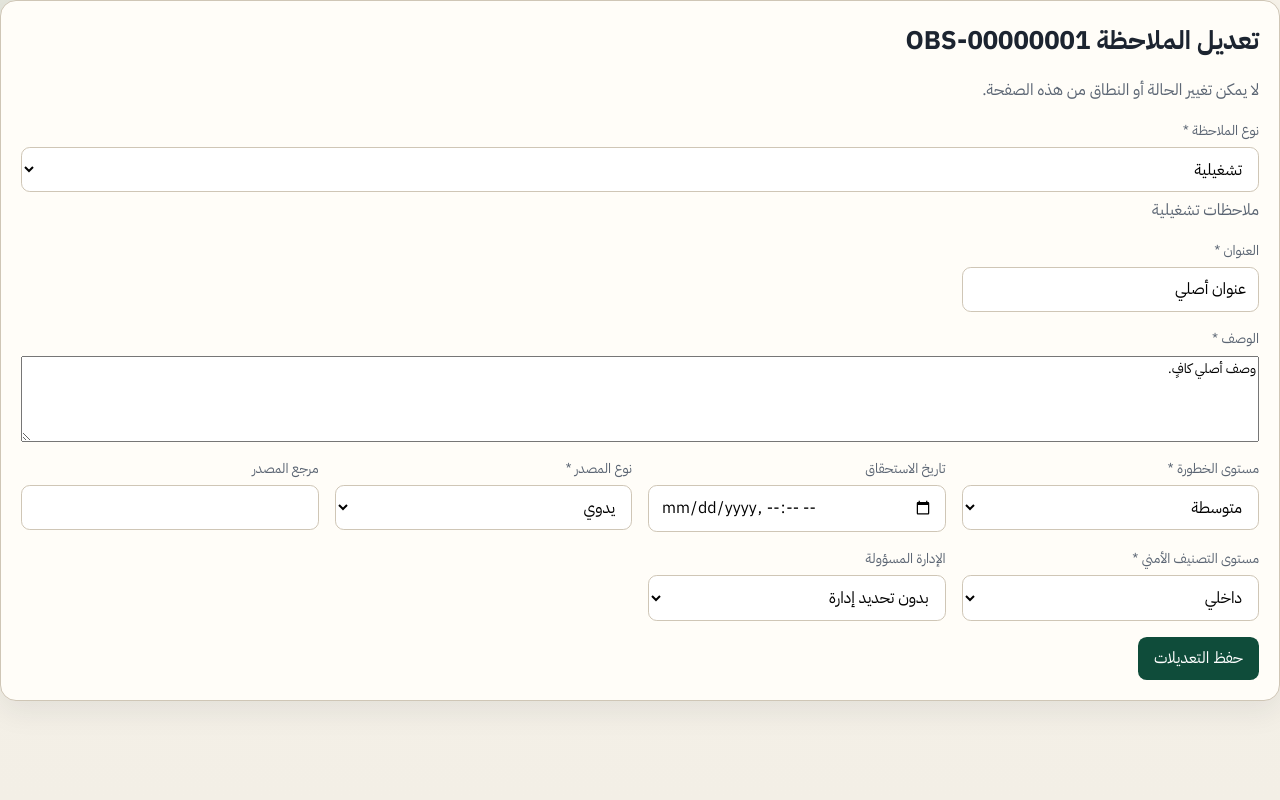
Test: NoteEditPage › shows validation errors for an empty title/description
The image size is (1280, 800).
Clear the field labelled "العنوان" at (1110, 290), box [962,267,1259,312]
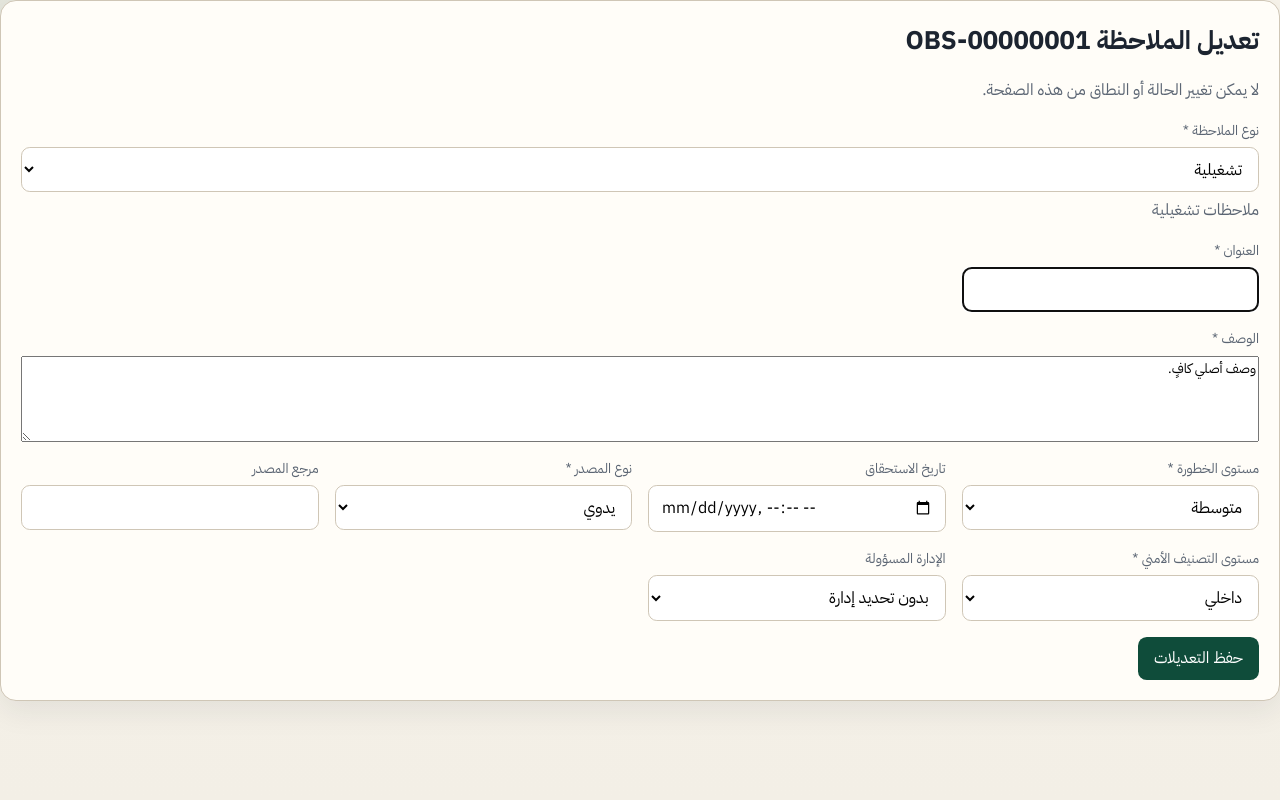
Click the button "حفظ التعديلات" at (1198, 659), box [1138,637,1259,680]
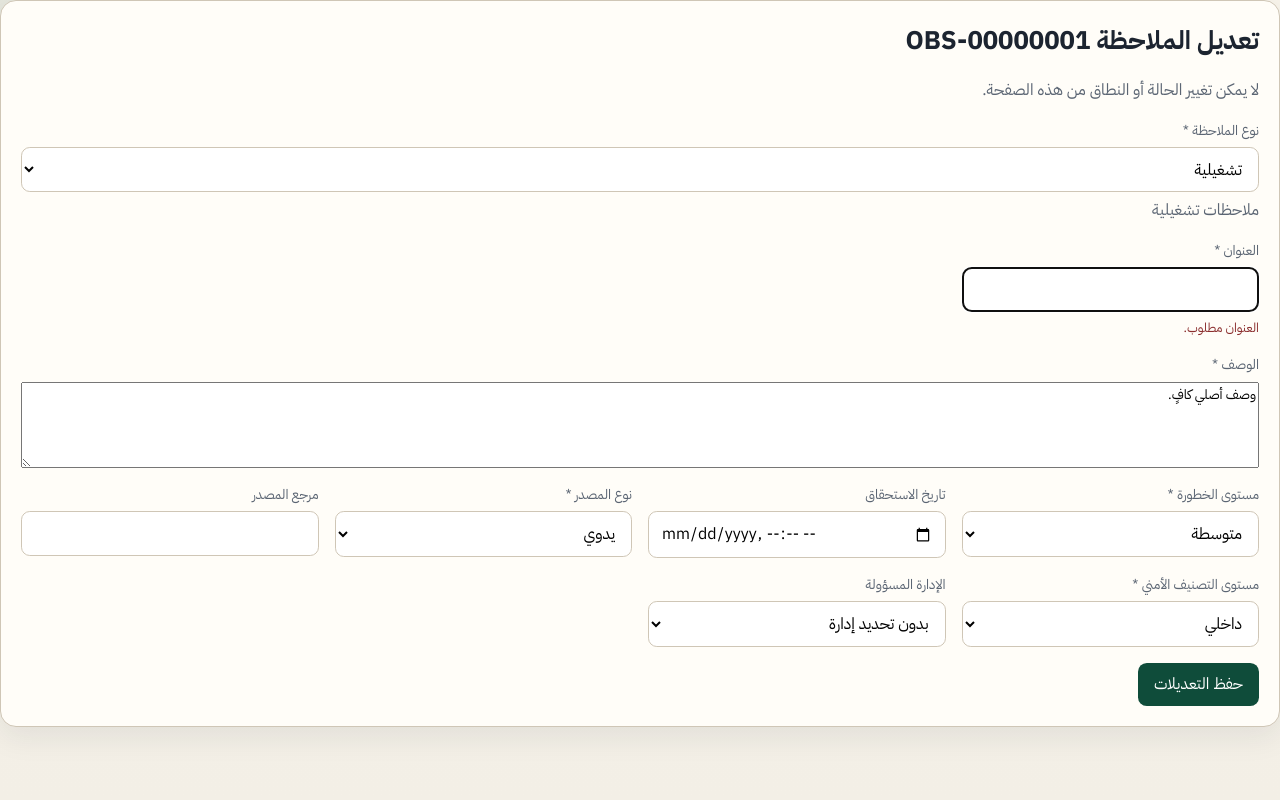
Check: the text "العنوان مطلوب." is shown, box [1184,318,1259,337]
